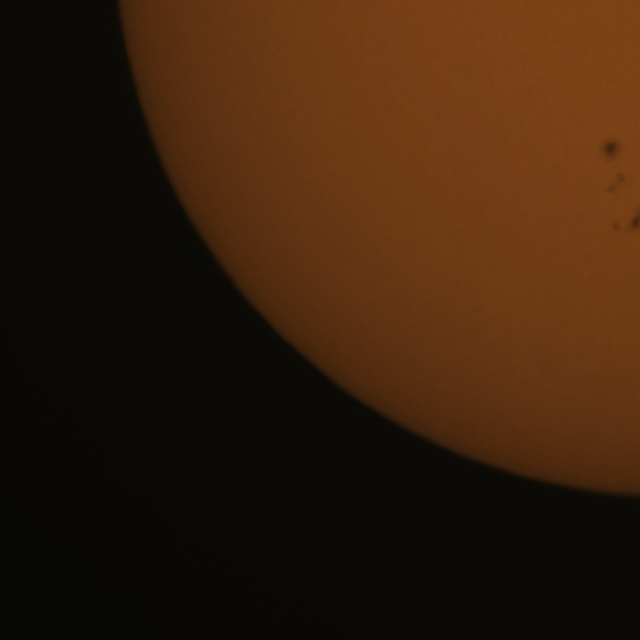sunspot: (609, 210, 640, 236), (604, 167, 626, 196), (601, 139, 620, 160)
